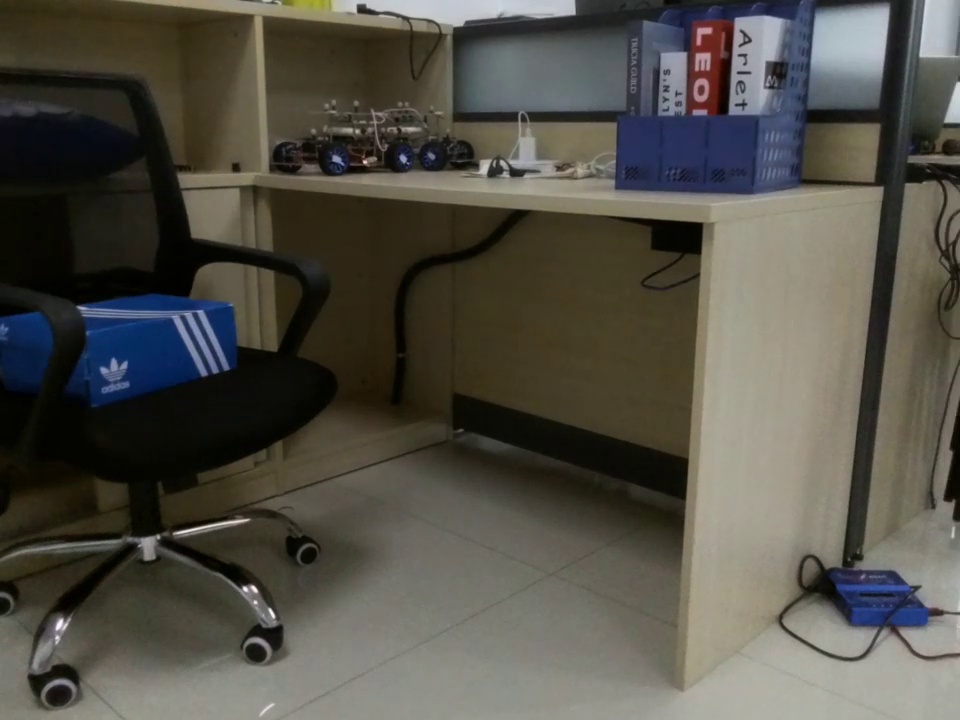files: (614, 2, 812, 195)
